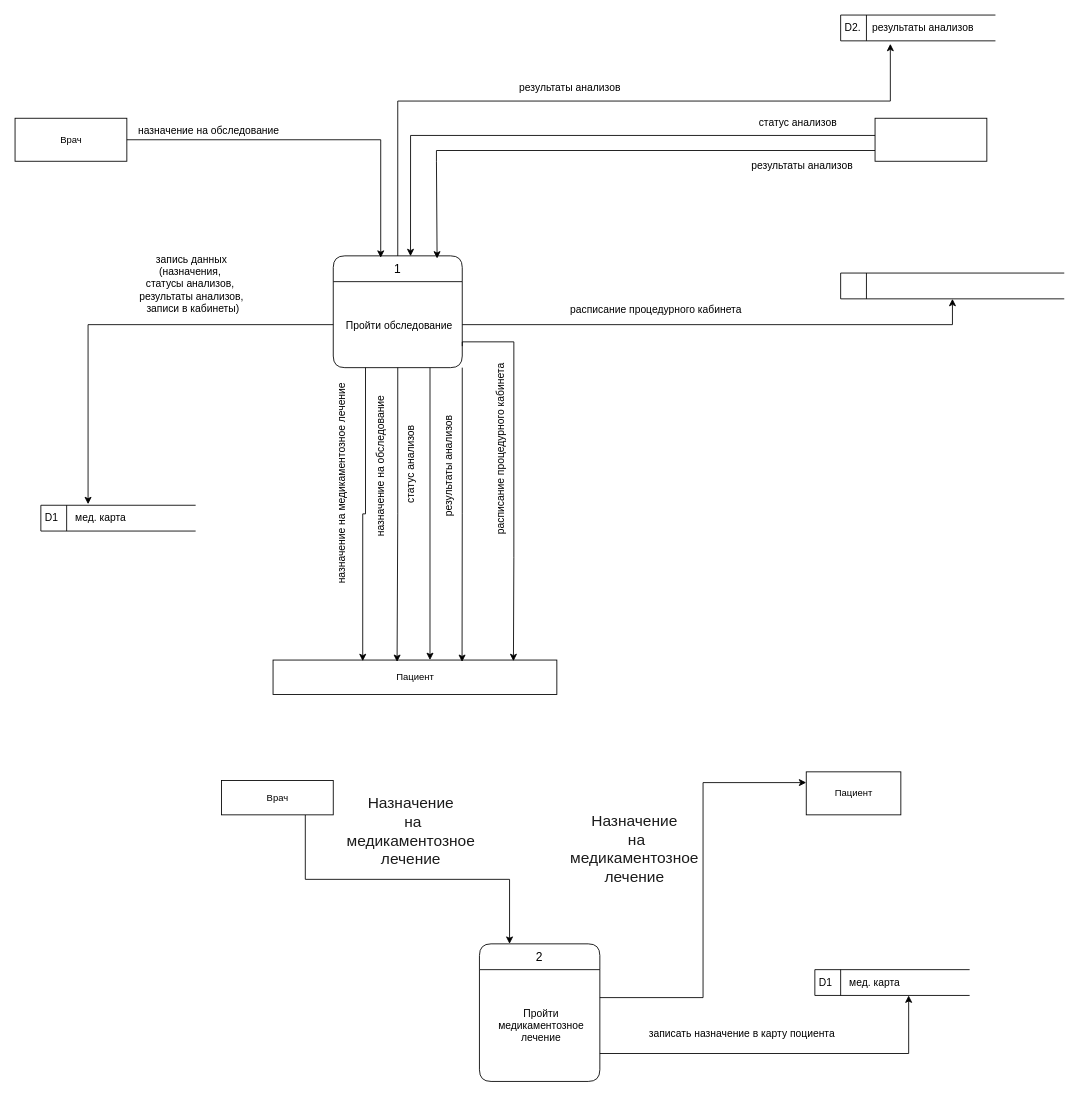
Image size: 1079x1097. Some labels were removed from this diagram. Each missing label, with the box of its shape:
D3 расписание процедурных кабинетов: (840, 272, 1064, 299)
Лаборатория: (874, 117, 987, 161)
